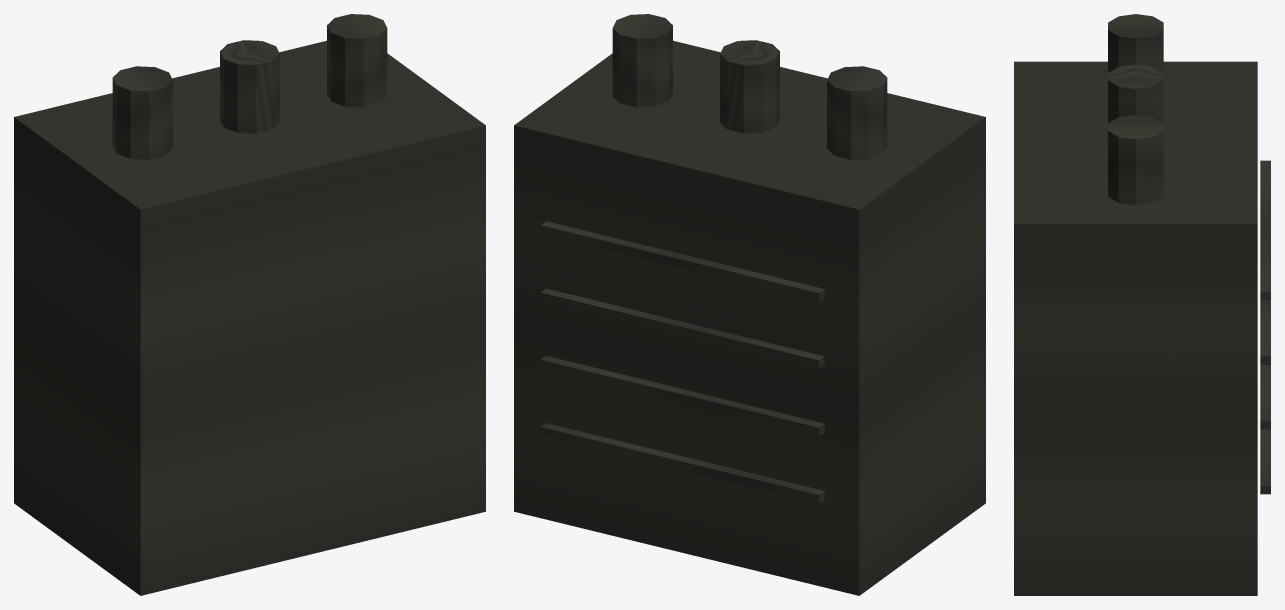
Rendered from prop_industrial_pipe_stack_a.glb.
3 renders of one model, left to right at view 1: azimuth 30°, elevation 25°; view 2: azimuth 150°, elevation 25°; view 3: azimuth 270°, elevation 25°, orthographic. The views are drawn at different scales.
Parts seen in each view (by area): view 1: prop_industrial_pipe_stack_a; view 2: prop_industrial_pipe_stack_a; view 3: prop_industrial_pipe_stack_a.
Part boxes in pixels (box(x1,y1,x2,y2)): prop_industrial_pipe_stack_a: box(14, 14, 485, 595); prop_industrial_pipe_stack_a: box(514, 14, 985, 595); prop_industrial_pipe_stack_a: box(1014, 14, 1270, 595).
Size of the model in its own units: 1.45 by 1.83 by 0.97.
Materials: 1 (1 with a texture image).
